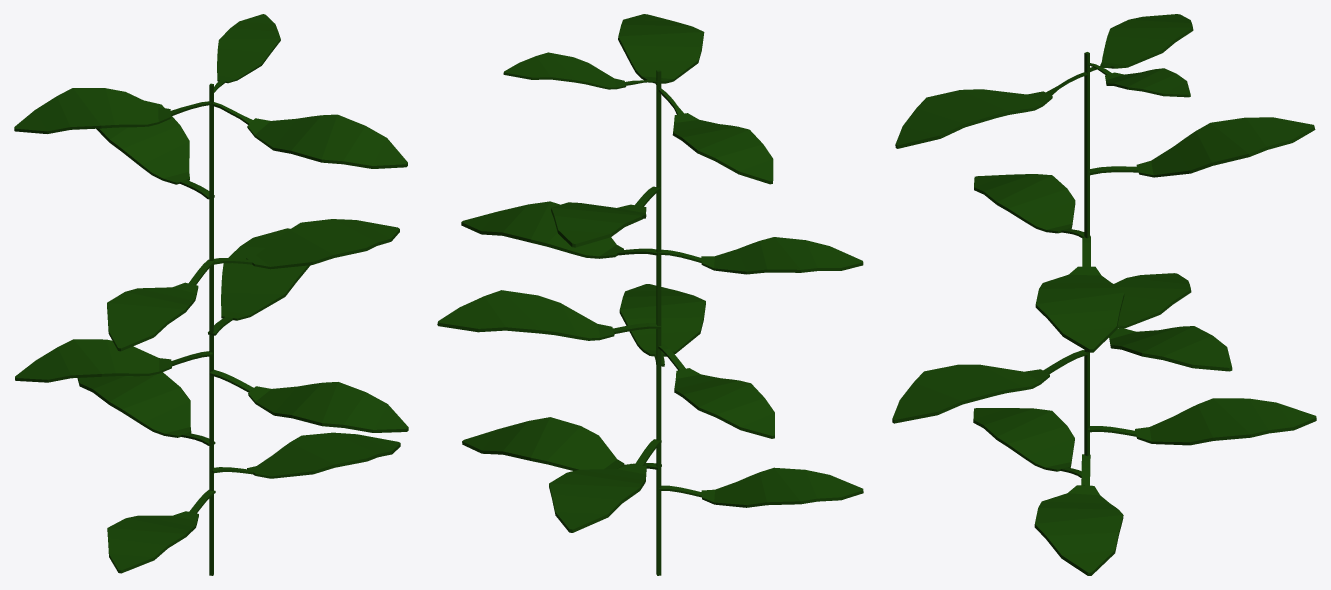
File: Krzak II.FBX
The picture shows the model from 3 angles, left to right: view 1: azimuth 30°, elevation 25°; view 2: azimuth 150°, elevation 25°; view 3: azimuth 270°, elevation 25°; orthographic projection. The views are drawn at different scales.
Visible parts, largest first — view 1: Cylinder.001; view 2: Cylinder.001; view 3: Cylinder.001.
Boxes of the visible parts, x1=… form: Cylinder.001: x1=14, y1=14, x2=408, y2=575; Cylinder.001: x1=437, y1=14, x2=863, y2=575; Cylinder.001: x1=892, y1=14, x2=1316, y2=575.
Bounding box in the file's own units: 6.46 × 9 × 6.61.
